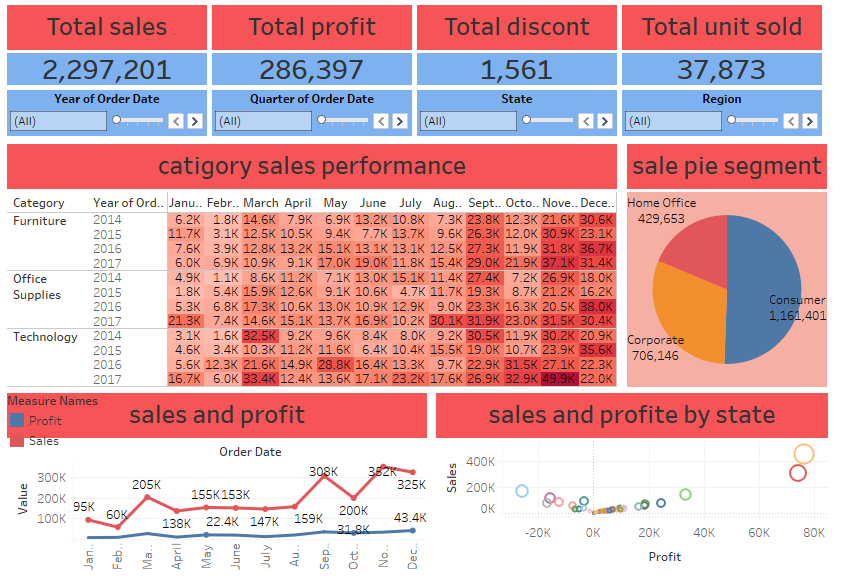

This screenshot's page, from the dashboard's own definition file:
{"tool":"tableau","page":{"name":"sales performance","canvas":[1000,1000],"units":"permille","ordinal":0},"visuals":[{"type":"worksheet","title":"Total sales","mark":"Automatic","box":[13,16.9,173.2,135.1]},{"type":"worksheet","title":"Total profit","mark":"Automatic","box":[190.5,16.9,173.2,135.1]},{"type":"worksheet","title":"Total discont","mark":"Automatic","box":[368,16.9,173.2,135.1]},{"type":"worksheet","title":"Total unit sold","mark":"Automatic","box":[545.5,16.9,173.2,135.1]},{"type":"worksheet","title":"catigory sales performance","mark":"Square","rows":["Category","Order Date"],"cols":["Order Date"],"param":"[federated.16la20j06xar5d10qoj311ix2kx8].[yr:Order Date:ok]","box":[13,160.5,173.2,77.7]},{"type":"worksheet","title":"catigory sales performance","mark":"Square","rows":["Category","Order Date"],"cols":["Order Date"],"param":"[federated.16la20j06xar5d10qoj311ix2kx8].[qr:Order Date:ok]","box":[190.5,160.5,173.2,77.7]},{"type":"worksheet","title":"catigory sales performance","mark":"Square","rows":["Category","Order Date"],"cols":["Order Date"],"param":"[federated.16la20j06xar5d10qoj311ix2kx8].[none:State:nk]","box":[368,160.5,173.2,77.7]},{"type":"worksheet","title":"catigory sales performance","mark":"Square","rows":["Category","Order Date"],"cols":["Order Date"],"param":"[federated.16la20j06xar5d10qoj311ix2kx8].[none:Region:nk]","box":[545.5,160.5,173.2,77.7]},{"type":"worksheet","title":"catigory sales performance","mark":"Square","rows":["Category","Order Date"],"cols":["Order Date"],"box":[13,251.7,528.1,410.5]},{"type":"worksheet","title":"sale pie segment","mark":"Pie","box":[549.8,251.7,173.2,410.5]},{"type":"worksheet","title":"sales and profit","mark":"Automatic","cols":["Order Date"],"param":"[federated.16la20j06xar5d10qoj311ix2kx8].[:Measure Names]","box":[13,670.6,95.2,103]},{"type":"worksheet","title":"sales and profit","mark":"Automatic","cols":["Order Date"],"box":[13,672.2,363.6,302.2]},{"type":"worksheet","title":"sales and profite by state","mark":"Automatic","rows":["Sales"],"cols":["Profit"],"box":[384.4,672.2,339.4,302.2]}]}

Visuals, with their boxes on the dashboard's canvas, which has no fixed pixel size, in thousandths of its width and height (x1, y1, x2, y2). These are canvas units, not pixel positions in the 841x578 screenshot, which may show the page scaled, cropped or inside an application window:
"Total sales" worksheet: 13:17:186:152
"Total profit" worksheet: 190:17:364:152
"Total discont" worksheet: 368:17:541:152
"Total unit sold" worksheet: 546:17:719:152
"catigory sales performance" worksheet (Square marks): 13:160:186:238
"catigory sales performance" worksheet (Square marks): 190:160:364:238
"catigory sales performance" worksheet (Square marks): 368:160:541:238
"catigory sales performance" worksheet (Square marks): 546:160:719:238
"catigory sales performance" worksheet (Square marks): 13:252:541:662
"sale pie segment" worksheet (Pie marks): 550:252:723:662
"sales and profit" worksheet: 13:671:108:774
"sales and profit" worksheet: 13:672:377:974
"sales and profite by state" worksheet: 384:672:724:974
